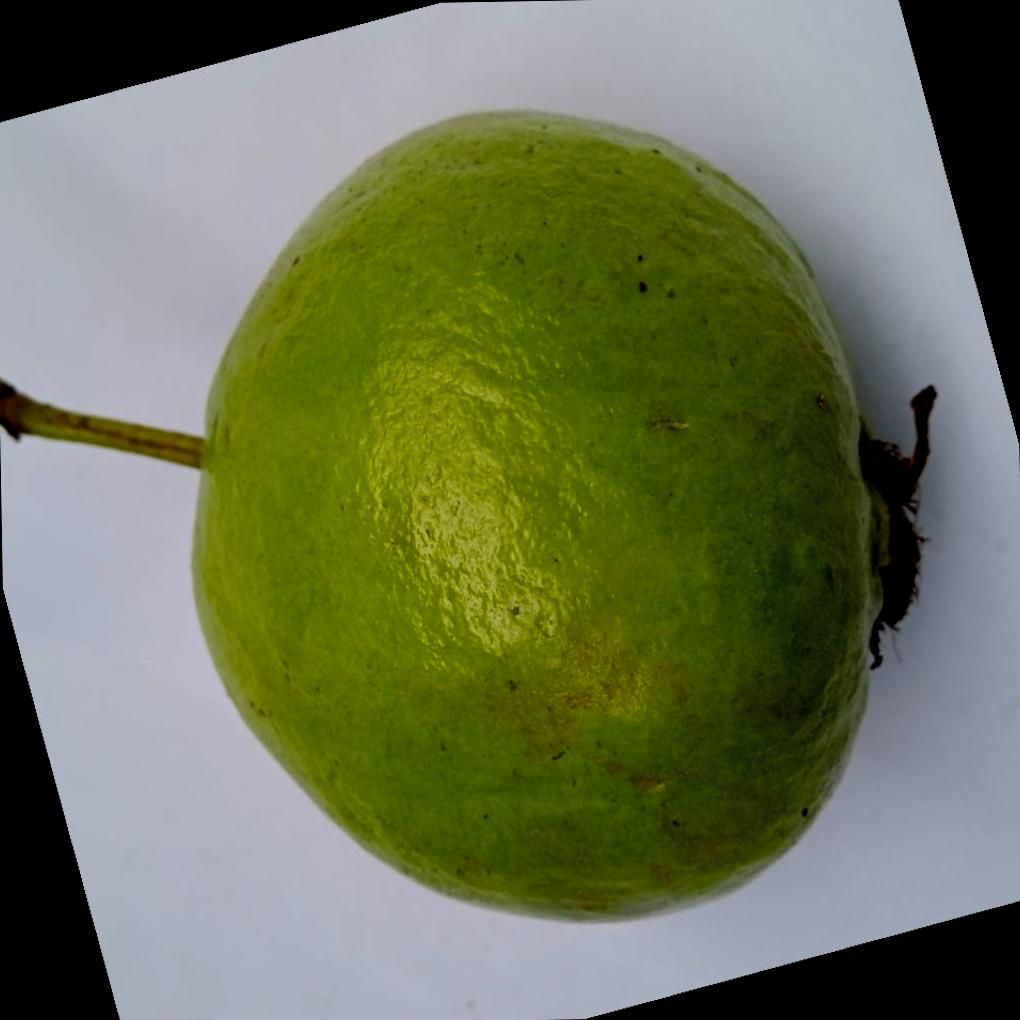FreshGuava: (160, 103, 918, 921)
